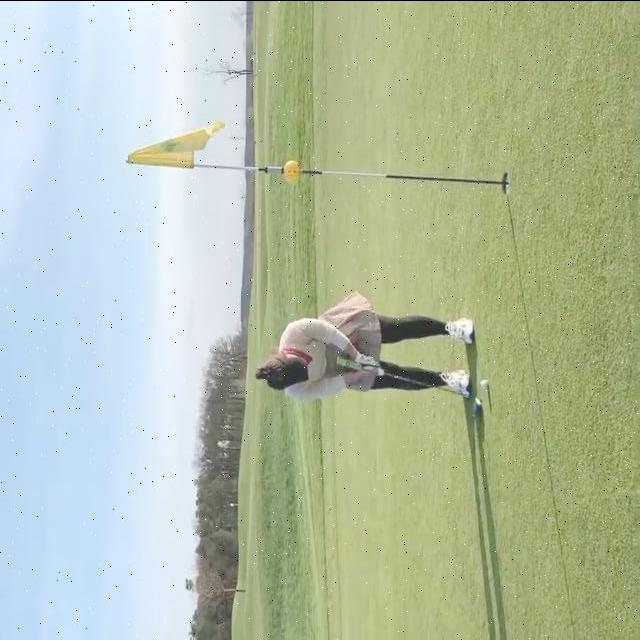golf ball: (480, 377, 487, 388)
golf club-handle: (336, 354, 483, 415)
golf club-head: (474, 396, 482, 415)
